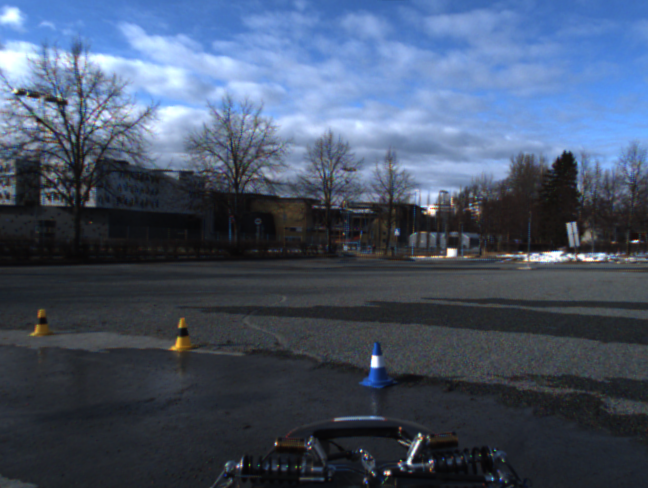cone-small-blue: (358, 342, 398, 389)
cone-small-yellow: (168, 317, 198, 352), (28, 308, 55, 336)
